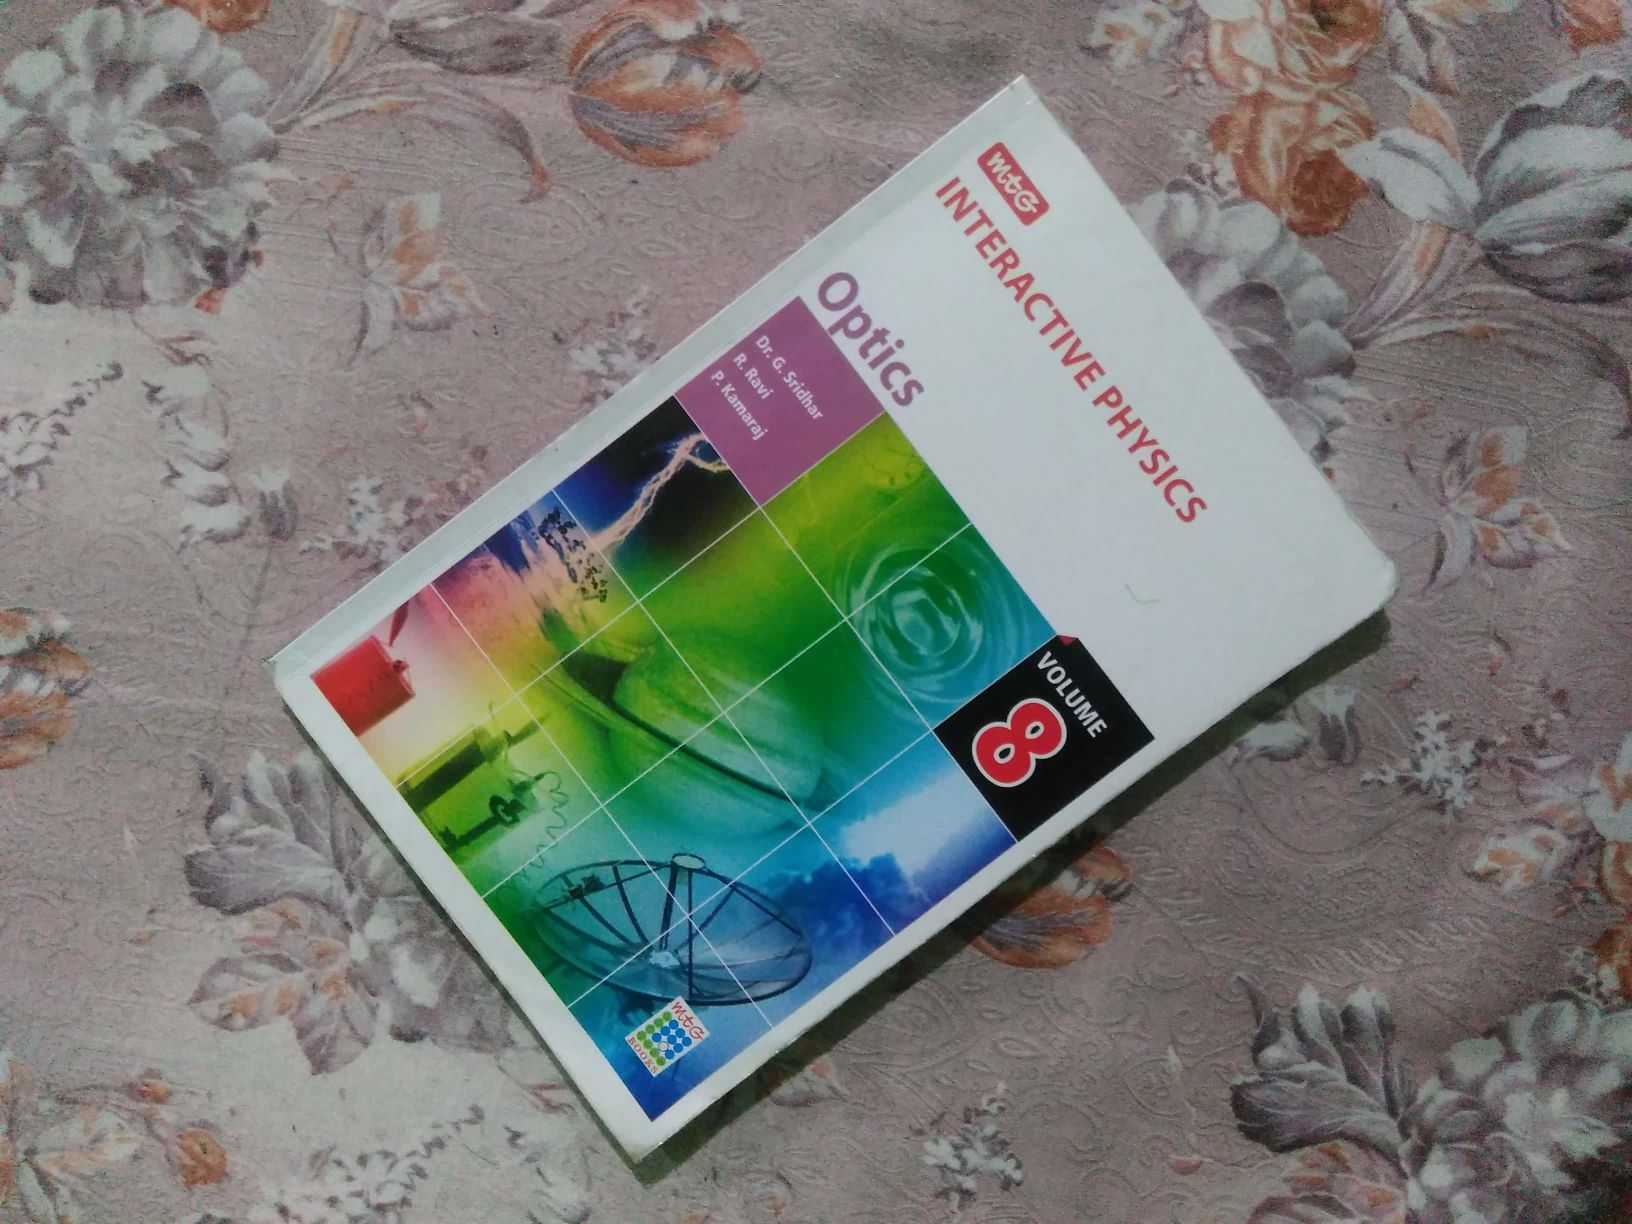optics: (310, 129, 1356, 1119)
